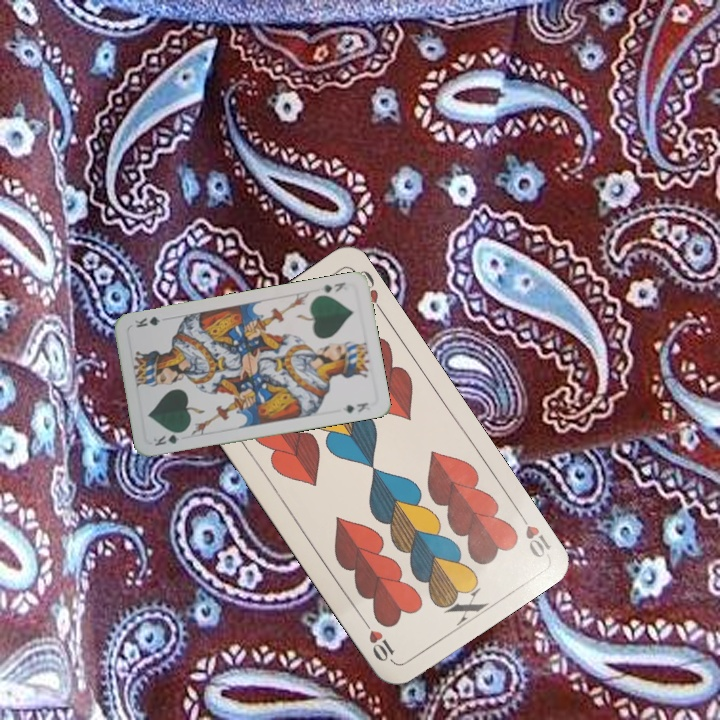GK: (149, 427, 188, 449), (316, 278, 348, 295)
H10: (513, 506, 554, 561)
